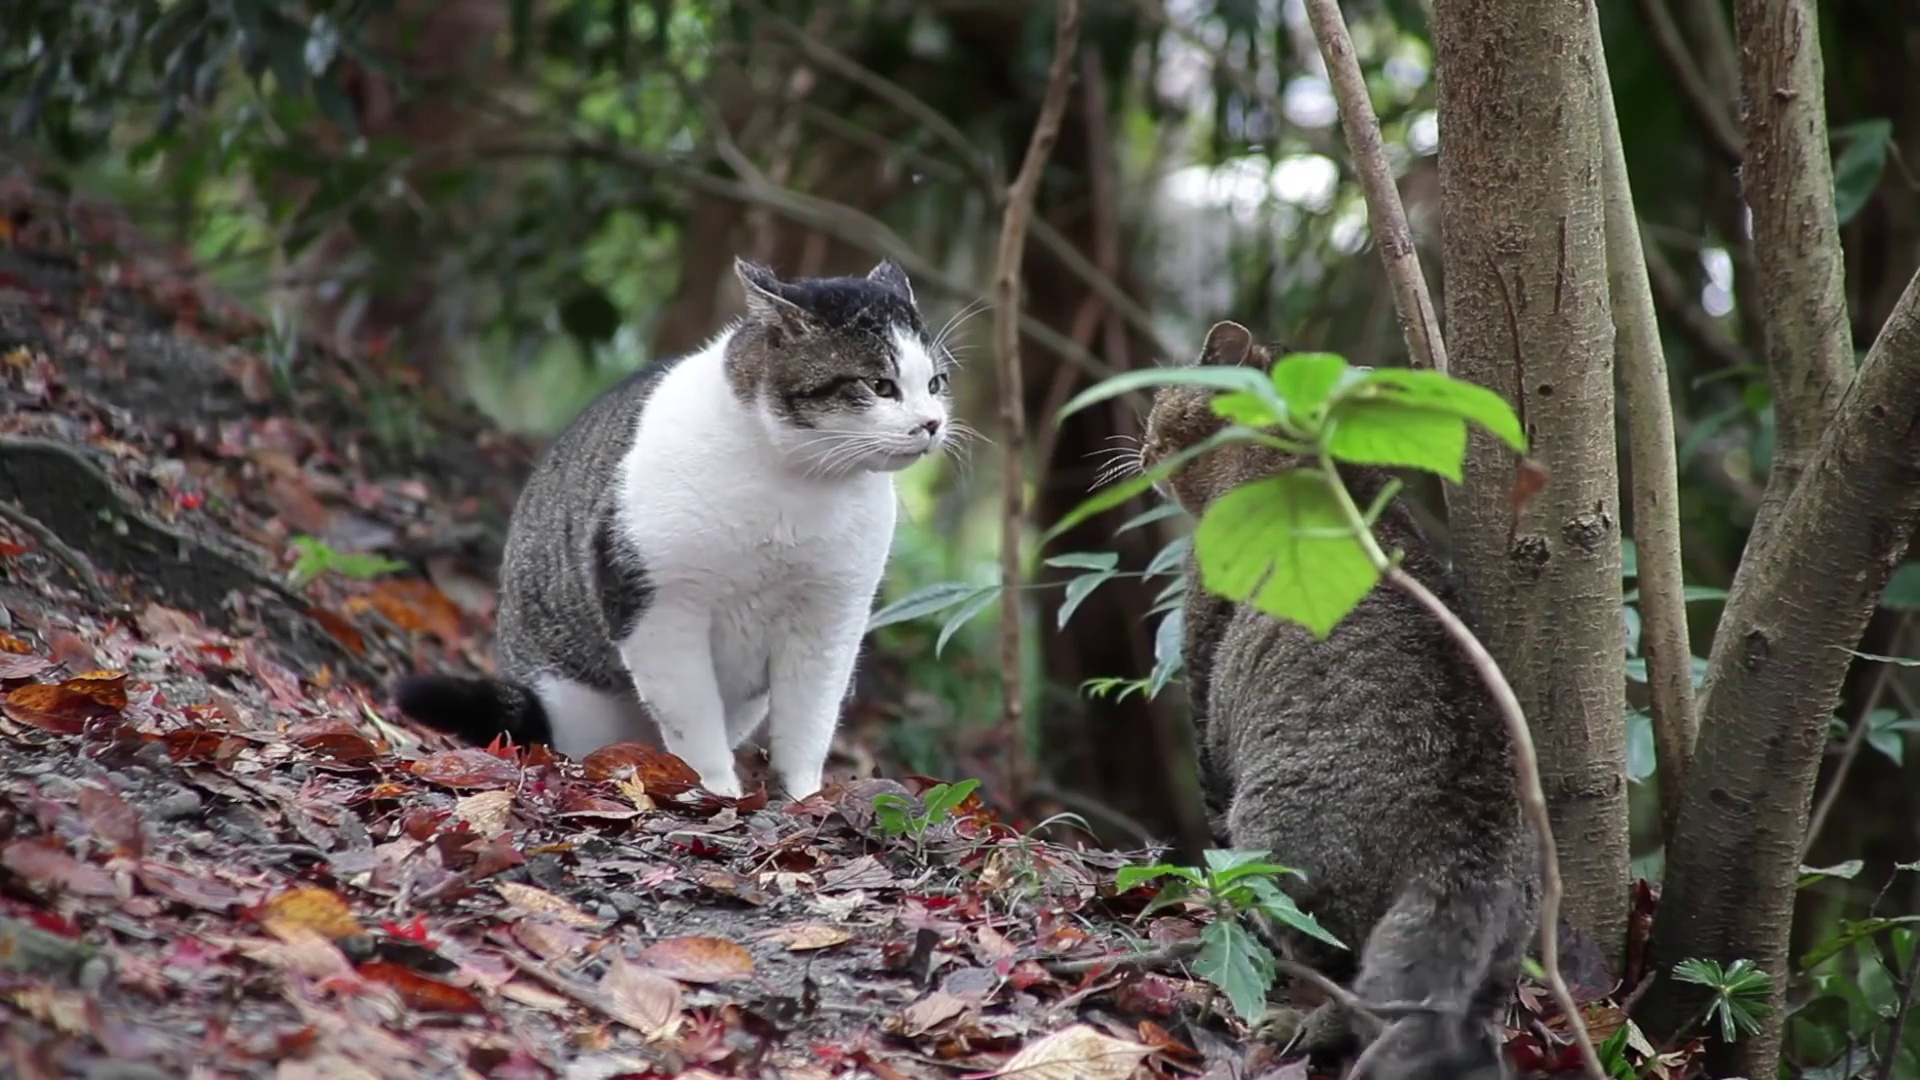black-white: (386, 255, 944, 802)
pure black: (1134, 319, 1545, 1080)
